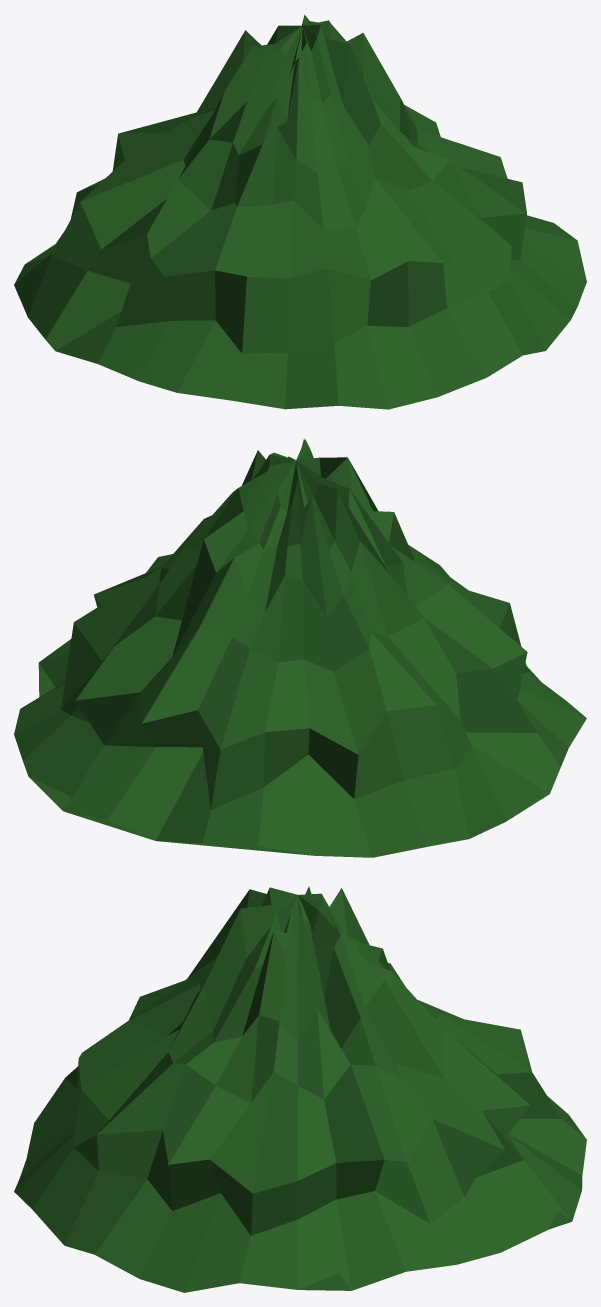
Rendered from sick.fbx.
3 views of the same model, one above another, from view 1: azimuth 30°, elevation 25°; view 2: azimuth 150°, elevation 25°; view 3: azimuth 270°, elevation 25° (orthographic). The views are drawn at different scales.
Visible parts, largest first — view 1: Cylinder; view 2: Cylinder; view 3: Cylinder.
Boxes of the visible parts, box(x1,y1,x2,y2) form: Cylinder: box(14, 14, 586, 409); Cylinder: box(14, 438, 586, 857); Cylinder: box(14, 886, 586, 1292).
Bounding box in the file's own units: 289 × 159 × 278.
